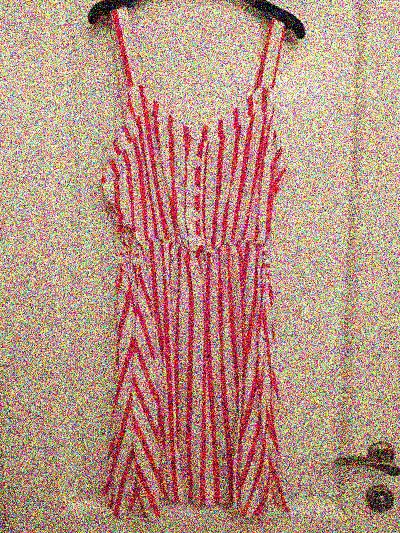Dress: (73, 21, 325, 527)
